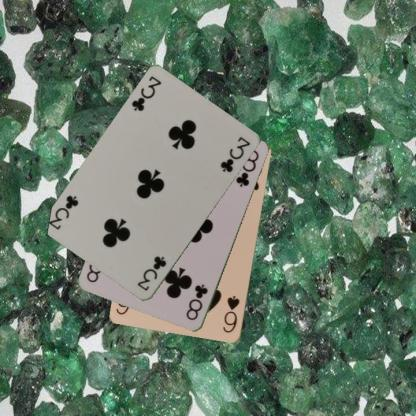3c: (129, 74, 163, 114), (134, 254, 168, 292)
6s: (220, 292, 241, 335)
8c: (184, 281, 209, 322)
